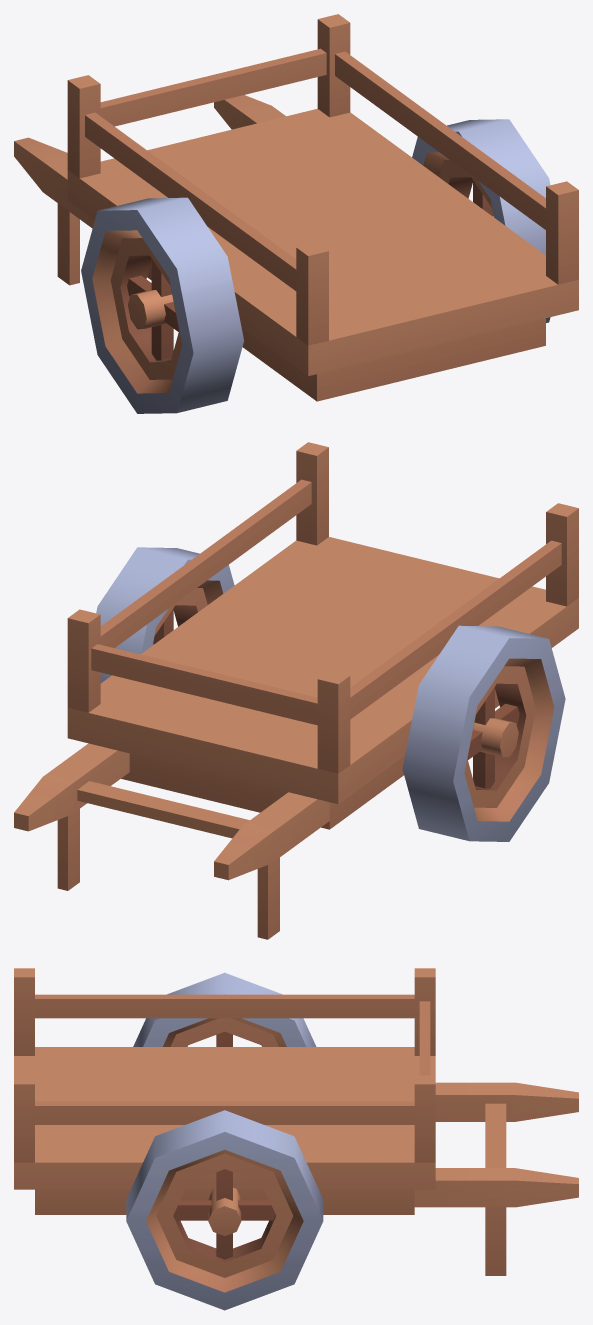
The model's file is ot-cart.glb.
3 renders of one model, top to bottom at view 1: azimuth 30°, elevation 25°; view 2: azimuth 150°, elevation 25°; view 3: azimuth 270°, elevation 25°, orthographic. The views are drawn at different scales.
Parts seen in each view (by area): view 1: cart; view 2: cart; view 3: cart.
Boxes of the visible parts, box(x1,y1,x2,y2) form: cart: box(14, 14, 578, 413); cart: box(14, 442, 578, 939); cart: box(14, 968, 578, 1310).
Size of the model in its own units: 0.8931 by 0.5354 by 1.34.
1 material, 1 textured.
